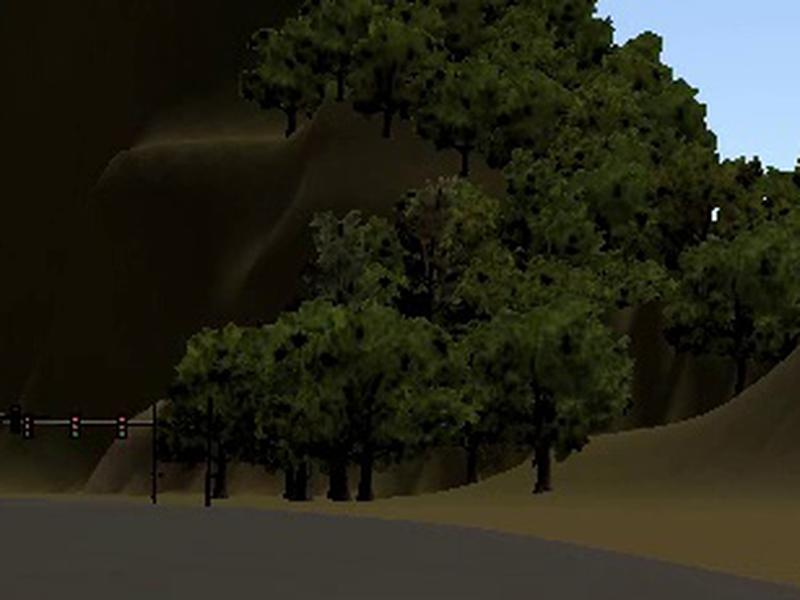Red: (115, 412, 128, 440), (69, 413, 81, 440)
